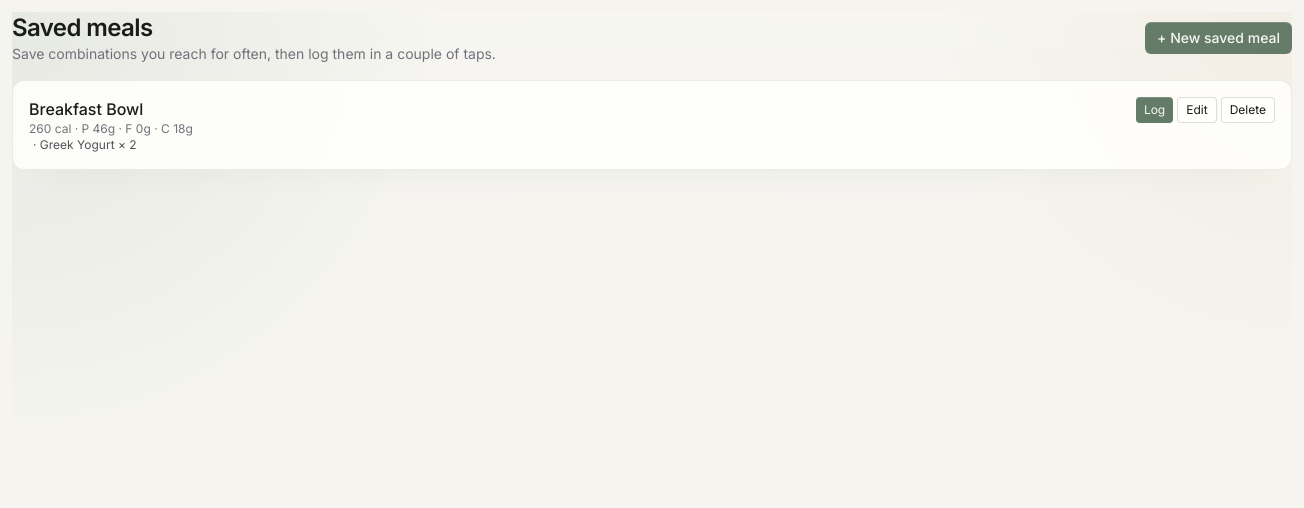
Test: MealsView › logs a saved meal and shows errors from the apply dialog
Click the button "Log" at (1155, 110), box [1136,97,1173,123]
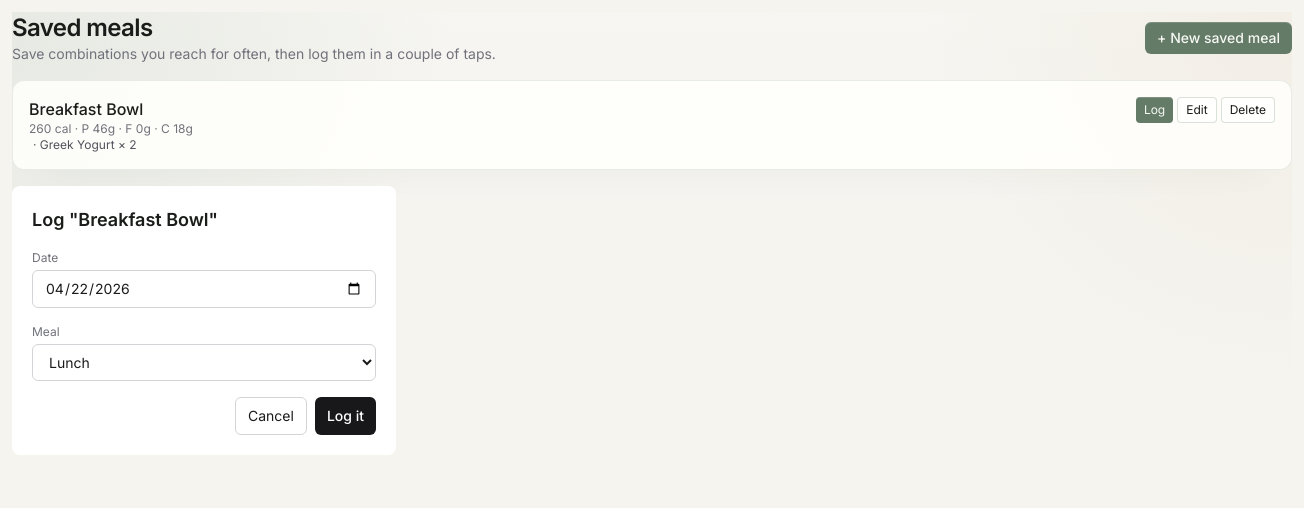
Click the button "Log it" at (345, 416), box [315,397,376,435]
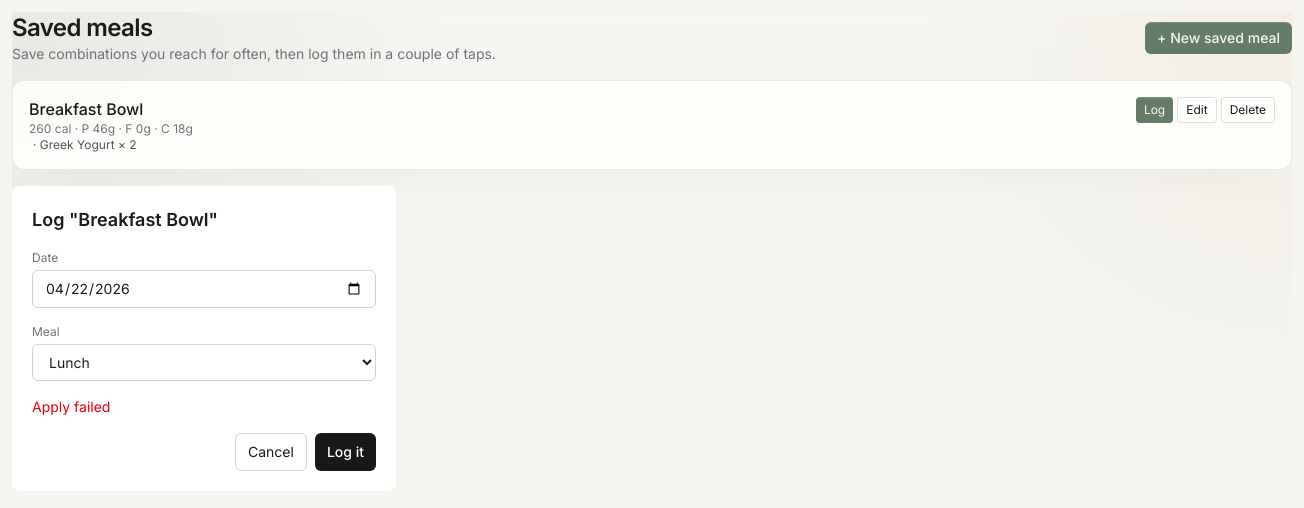
Check: the text "Apply failed" is shown, box [32,398,110,415]
Type "2026-04-21" into the date field labelled "Date" at (204, 289), box [32,270,376,308]
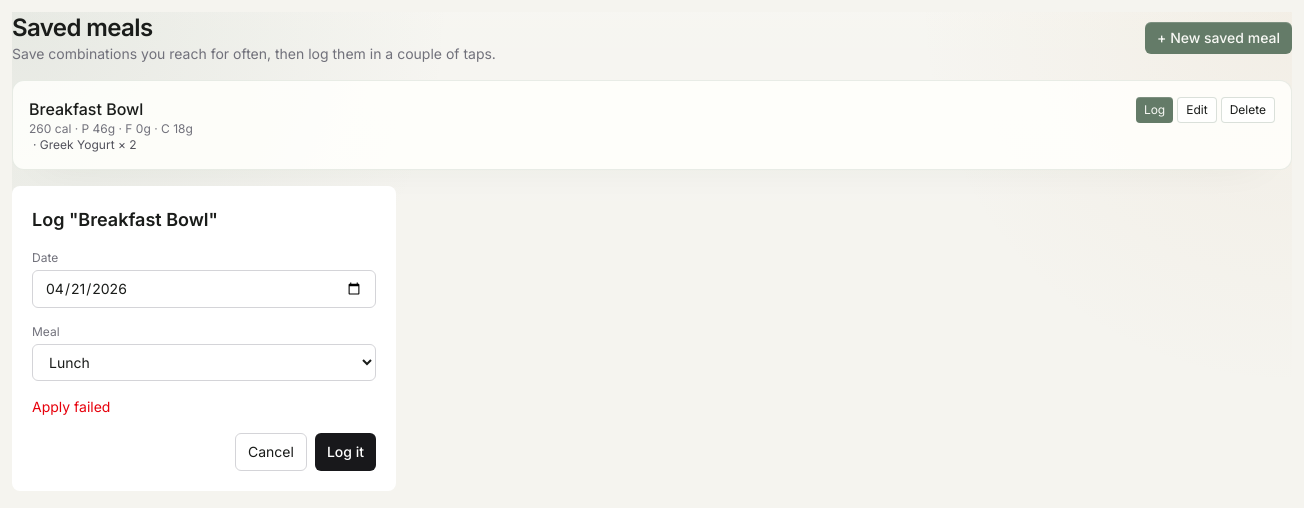
Select "Snacks" in the dropdown labelled "Meal" at (204, 362), box [32,344,376,381]
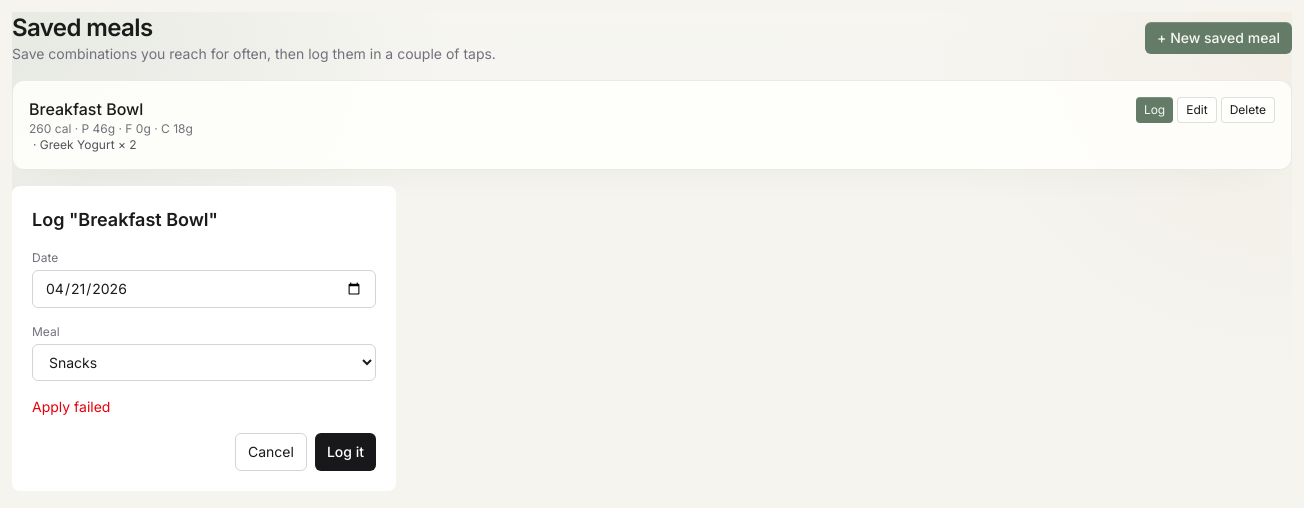
Click the button "Log it" at (345, 452), box [315,433,376,471]
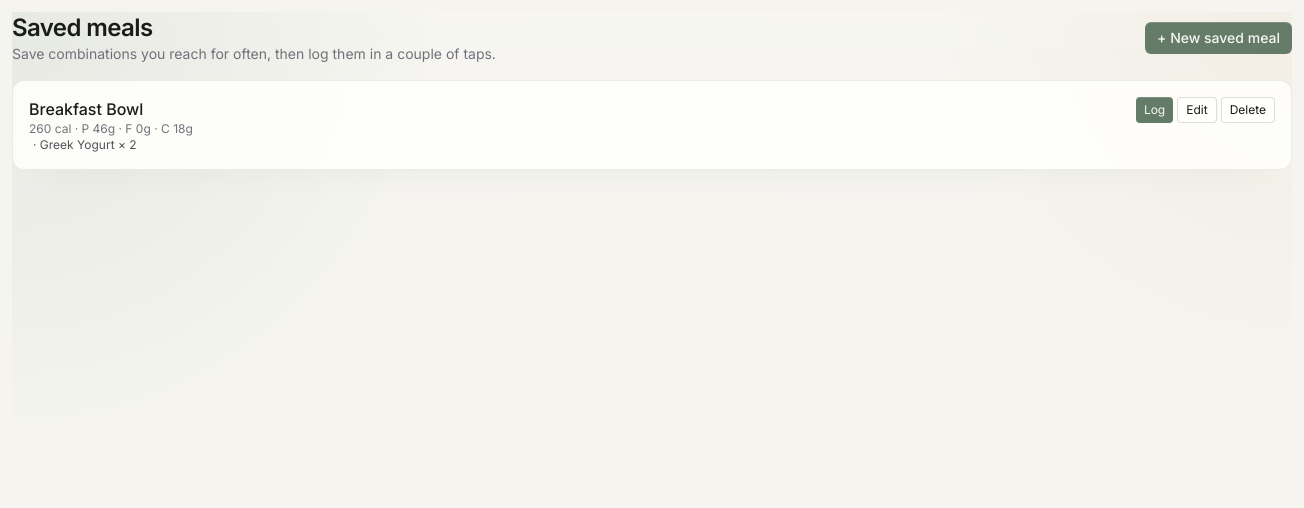
Check: the heading "Log \"Breakfast Bowl\"" is gone
